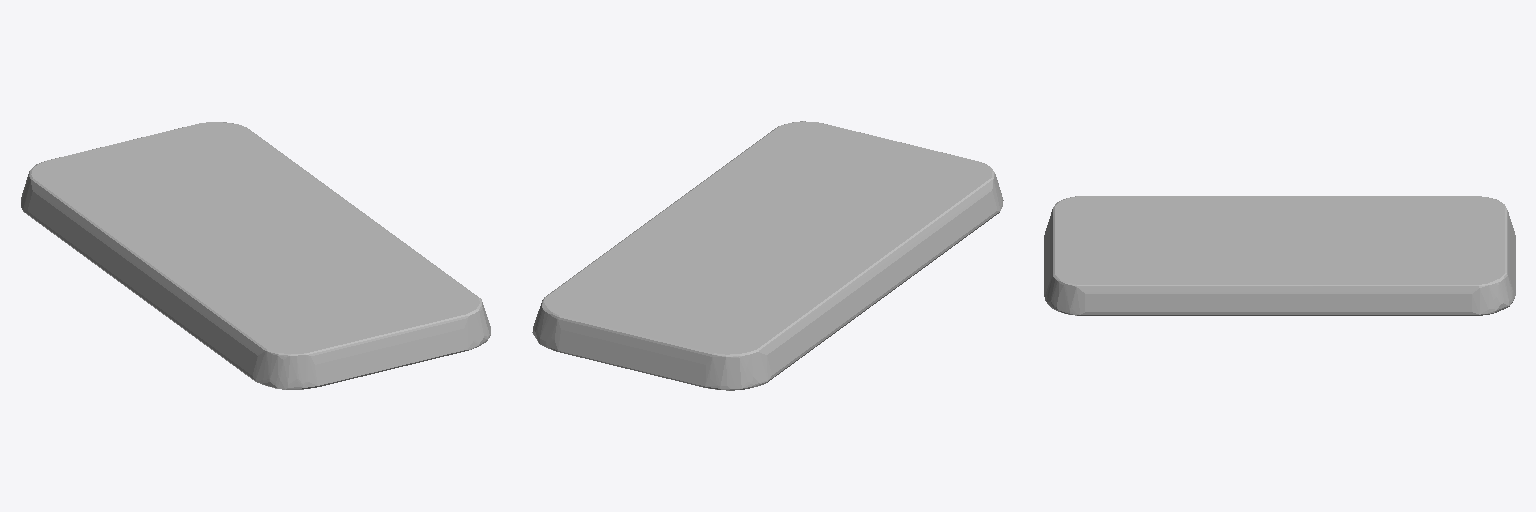
robot.urdf — root:
<robot name="root">
  <link name="link_coacd_convex_piece_0">
    <inertial>
      <origin xyz="0 0 0" rpy="0 0 0"/>
      <inertia ixx="4.25E-02" ixy="1.56E-05" ixz="1.33E-07" iyy="1.01E-02" iyz="-2.00E-08" izz="5.22E-02"/>
    </inertial>
    <visual>
      <origin xyz="0 0 0" rpy="0 0 0"/>
      <geometry>
        <mesh filename="coacd_convex_piece_0.obj" scale="1.0000E+00 1.0000E+00 1.0000E+00"/>
      </geometry>
      <material name="">
        <color rgba="7.50E-01 7.50E-01 7.50E-01 1"/>
      </material>
    </visual>
    <collision>
      <origin xyz="0 0 0" rpy="0 0 0"/>
      <geometry>
        <mesh filename="coacd_convex_piece_0.obj" scale="1.0000E+00 1.0000E+00 1.0000E+00"/>
      </geometry>
    </collision>
  </link>
</robot>

--- Facts derived from the render (not from the file) ---
3 views of the same robot in one strip: view 1: azimuth 30°, elevation 25°; view 2: azimuth 150°, elevation 25°; view 3: azimuth 270°, elevation 25° (orthographic).
Model root with 1 links and 0 joints (none), rooted at link_coacd_convex_piece_0, posed every joint at zero.
Visible links, largest first — view 1: link_coacd_convex_piece_0; view 2: link_coacd_convex_piece_0; view 3: link_coacd_convex_piece_0.
Link boxes in pixels (x1,y1,x2,y2): link_coacd_convex_piece_0: [21, 122, 490, 389]; link_coacd_convex_piece_0: [532, 121, 1003, 390]; link_coacd_convex_piece_0: [1044, 196, 1515, 315].
Size in the robot's own frame: 0.9045 by 1.85 by 0.1206 metres.
1 mesh visuals loaded from 1 distinct referenced files (1 OBJ).
